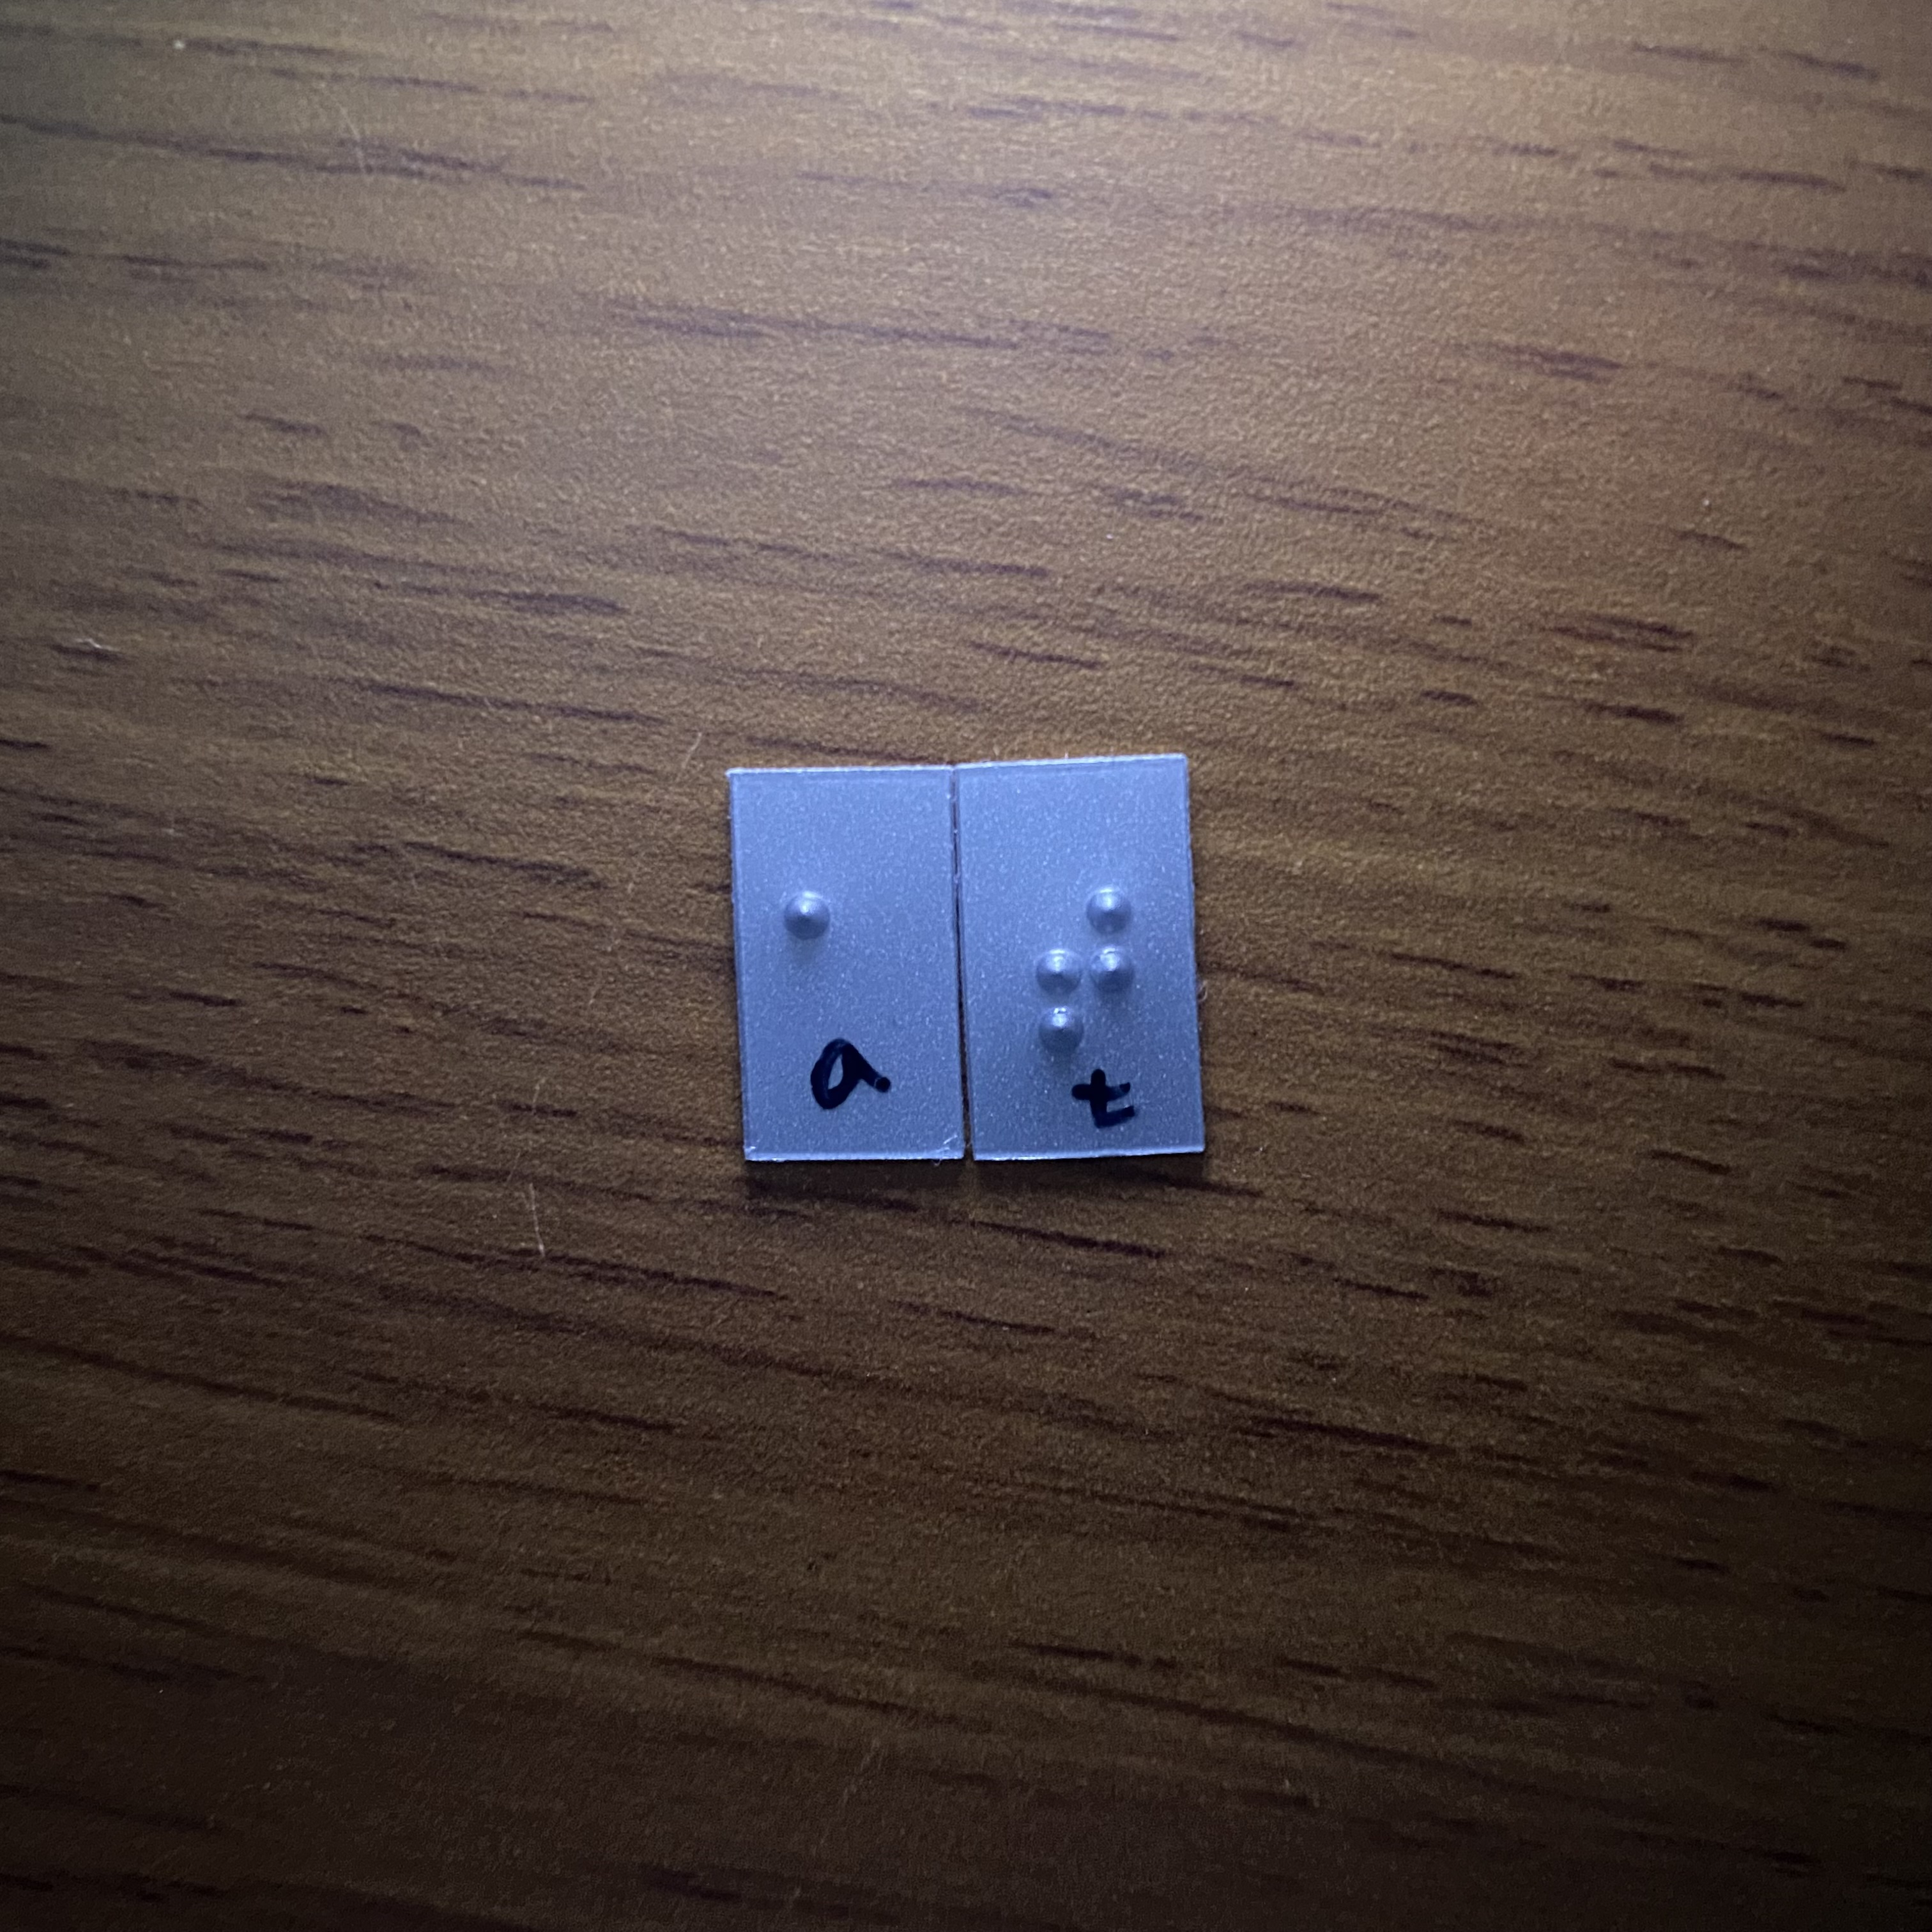a: (774, 866, 906, 1064)
t: (1023, 870, 1148, 1077)
